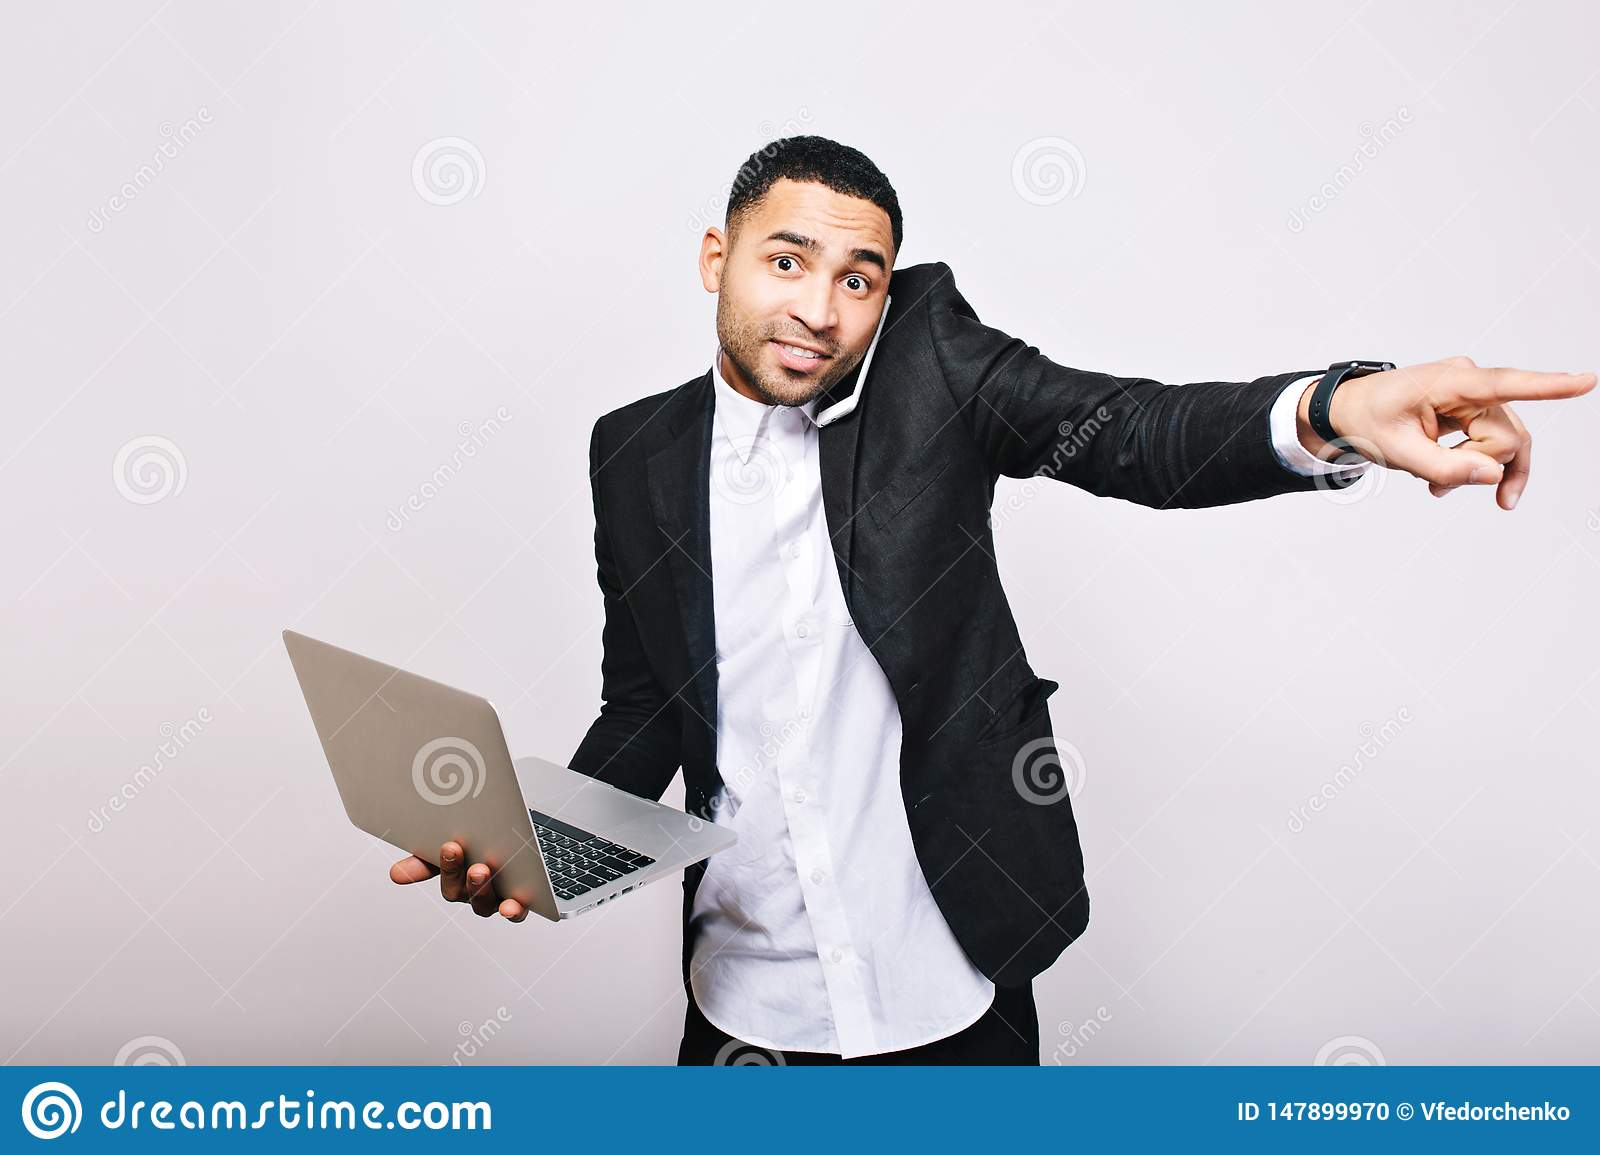phone: (810, 289, 891, 426)
talk: (743, 220, 893, 430)
